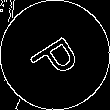P_NE: (24, 26, 86, 84)
